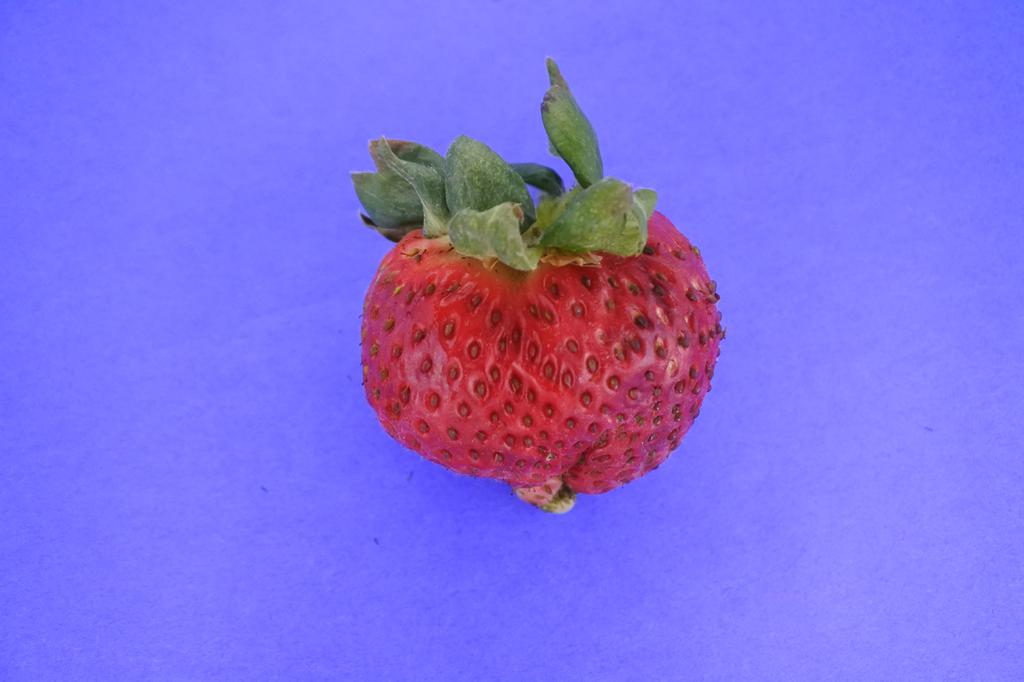red strawberry: (346, 56, 726, 518)
